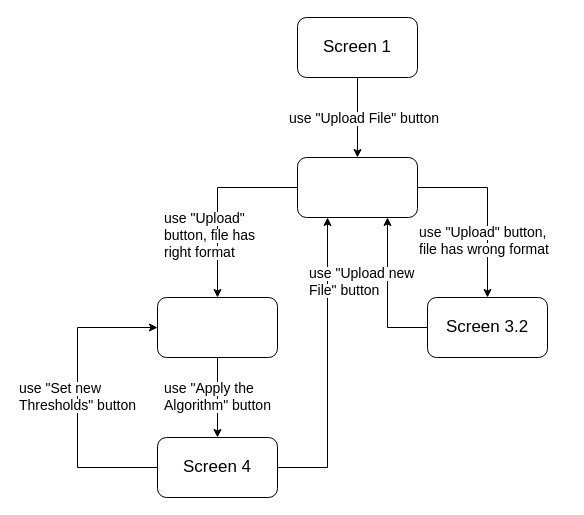
Some shapes in this 584 by 515 pixel diagram are drawn without their labels. The centre of each missing label's shape, as x and y in pixels:
"Screen 2" goes at (357,187).
"Screen 3.1" goes at (217,327).
